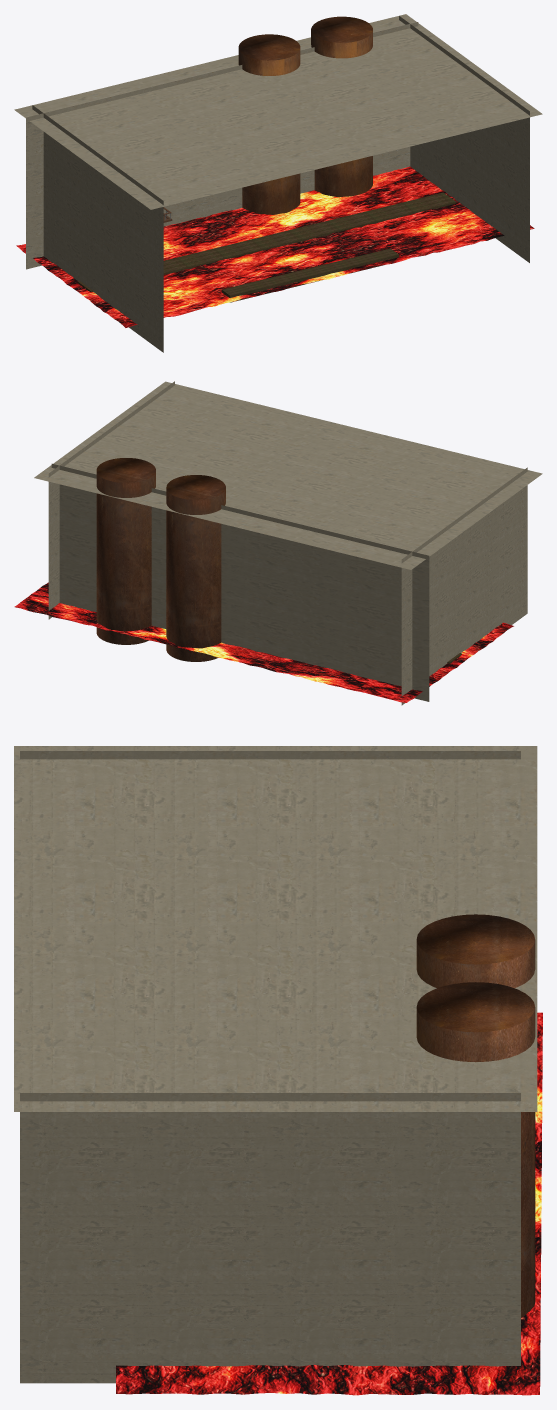
File: SmeltingRoom.glb
The picture shows the model from 3 angles, top to bottom: view 1: azimuth 30°, elevation 25°; view 2: azimuth 150°, elevation 25°; view 3: azimuth 270°, elevation 25°; orthographic projection. The views are drawn at different scales.
Parts seen in each view (by area): view 1: Wall, PlaneShape_0.001, FloorBack, Cylinder, Cylinder.001, Floor; view 2: Wall, Cylinder.001, Cylinder, PlaneShape_0.001; view 3: Wall, PlaneShape_0.001, Cylinder.001, Cylinder.
Part boxes in pixels (box(x1,y1,x2,y2)): Wall: box(14, 14, 542, 352); PlaneShape_0.001: box(16, 166, 534, 327); FloorBack: box(78, 192, 456, 292); Cylinder: box(238, 34, 300, 214); Cylinder.001: box(311, 16, 372, 197); Floor: box(221, 248, 398, 302); Wall: box(34, 381, 542, 705); Cylinder.001: box(96, 458, 155, 644); Cylinder: box(166, 475, 225, 661); PlaneShape_0.001: box(14, 582, 513, 702); Wall: box(14, 746, 537, 1383); PlaneShape_0.001: box(116, 1012, 542, 1395); Cylinder.001: box(416, 982, 535, 1317); Cylinder: box(416, 914, 535, 988).
Size of the model in its own units: 94.76 by 36.7 by 54.68.
Materials: 19 (19 with a texture image).
